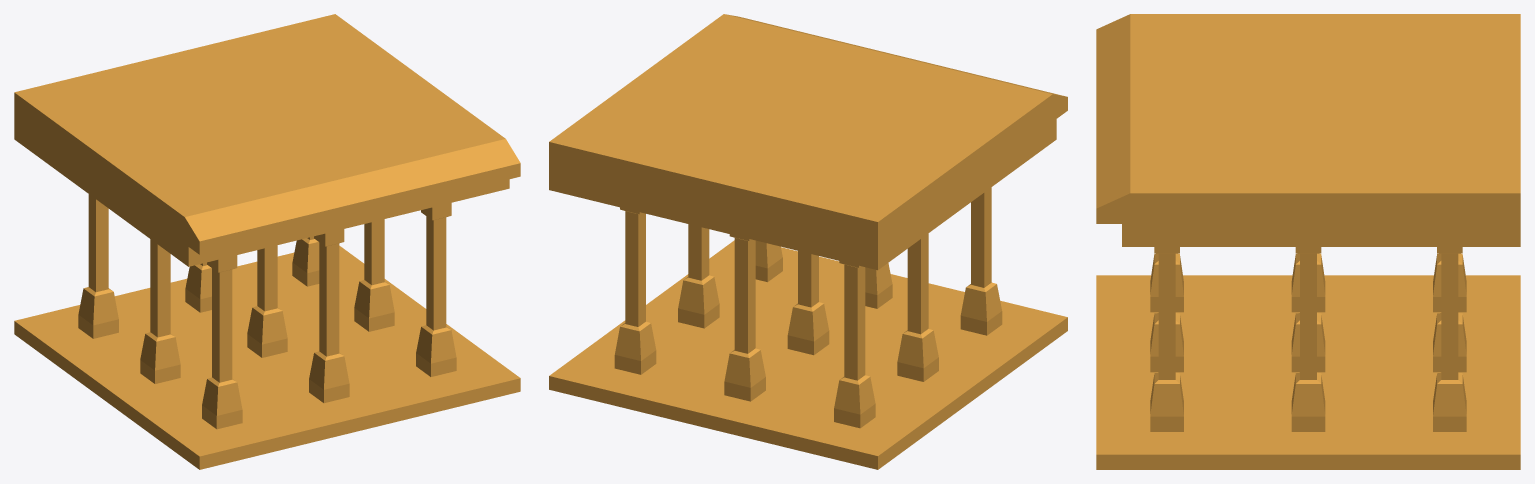
The model's file is hindu-pillars-side.fbx.
3 views of the same model, side by side, from view 1: azimuth 30°, elevation 25°; view 2: azimuth 150°, elevation 25°; view 3: azimuth 270°, elevation 25° (orthographic). The views are drawn at different scales.
Parts seen in each view (by area): view 1: hindu-pillars-side; view 2: hindu-pillars-side; view 3: hindu-pillars-side.
Part boxes in pixels (<box>): hindu-pillars-side: <box>14,14,520,469</box>; hindu-pillars-side: <box>549,14,1067,469</box>; hindu-pillars-side: <box>1096,14,1520,469</box>.
Size of the model in its own units: 5 by 3.6 by 5.
